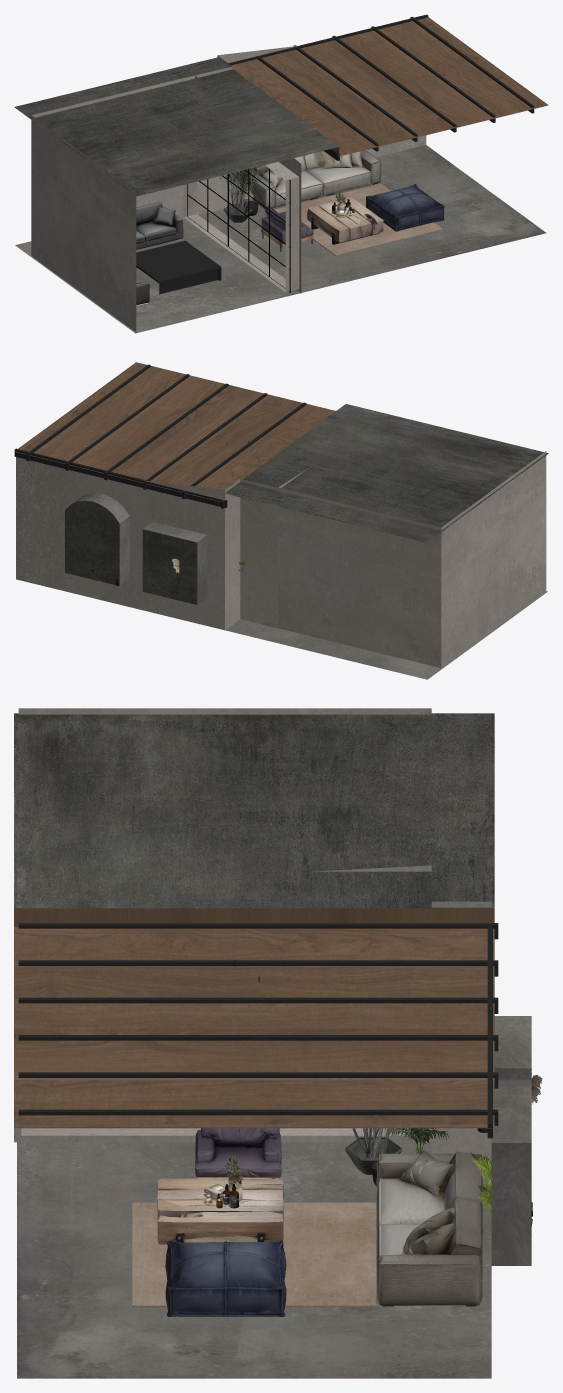
Rendered from living_room_interior.glb.
3 views of the same model, one above another, from view 1: azimuth 30°, elevation 25°; view 2: azimuth 150°, elevation 25°; view 3: azimuth 270°, elevation 25° (orthographic). The views are drawn at different scales.
Parts seen in each view (by area): view 1: Plane.001, Plane, node_0_Material.006_0, Cube.001, Cube.002, Plane.002, node_0.001_Material.007_0, node_0.002_Material.008_0, node_0.005_Material.012_0, object 41, node_0.003_Material.010_0, Cube; view 2: Plane, Plane.001, Cube.001, Cube; view 3: Plane.001, Plane, Cube.001, node_0_Material.006_0, Plane.002, node_0.001_Material.007_0, node_0.002_Material.008_0, node_0.003_Material.010_0, Cube, node_0.004_Material.011_0, Cylinder.010.
Part boxes in pixels (box(x1,y1,x2,y2)): Plane.001: box(14, 17, 548, 196); Plane: box(15, 45, 546, 333); node_0_Material.006_0: box(240, 150, 381, 208); Cube.001: box(257, 16, 534, 160); Cube.002: box(136, 240, 221, 295); Plane.002: box(275, 183, 442, 255); node_0.001_Material.007_0: box(366, 184, 444, 231); node_0.002_Material.008_0: box(307, 197, 383, 244); node_0.005_Material.012_0: box(136, 201, 183, 249); object 41: box(187, 168, 290, 292); node_0.003_Material.010_0: box(261, 206, 313, 251); Cube: box(228, 14, 428, 65); Plane: box(16, 451, 547, 679); Plane.001: box(14, 362, 548, 542); Cube.001: box(26, 364, 306, 508); Cube: box(14, 448, 227, 507); Plane.001: box(14, 713, 494, 1128); Plane: box(14, 708, 531, 1378); Cube.001: box(18, 923, 498, 1125); node_0_Material.006_0: box(376, 1150, 482, 1306); Plane.002: box(132, 1202, 376, 1307); node_0.001_Material.007_0: box(165, 1240, 286, 1316); node_0.002_Material.008_0: box(157, 1178, 283, 1244); node_0.003_Material.010_0: box(194, 1128, 281, 1179); Cube: box(487, 923, 492, 1138); node_0.004_Material.011_0: box(203, 1155, 243, 1208); Cylinder.010: box(345, 1137, 401, 1174).
Bounding box in the file's own units: 9.17 × 3.07 × 5.24.
20 materials, 18 textured.
